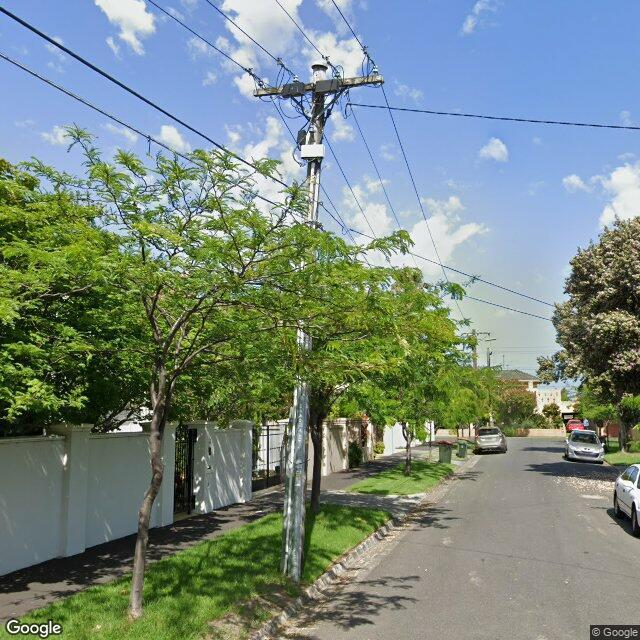crossarm: (243, 44, 385, 101), (461, 331, 491, 336)
timber-pole: (280, 62, 330, 580), (472, 328, 477, 368)
